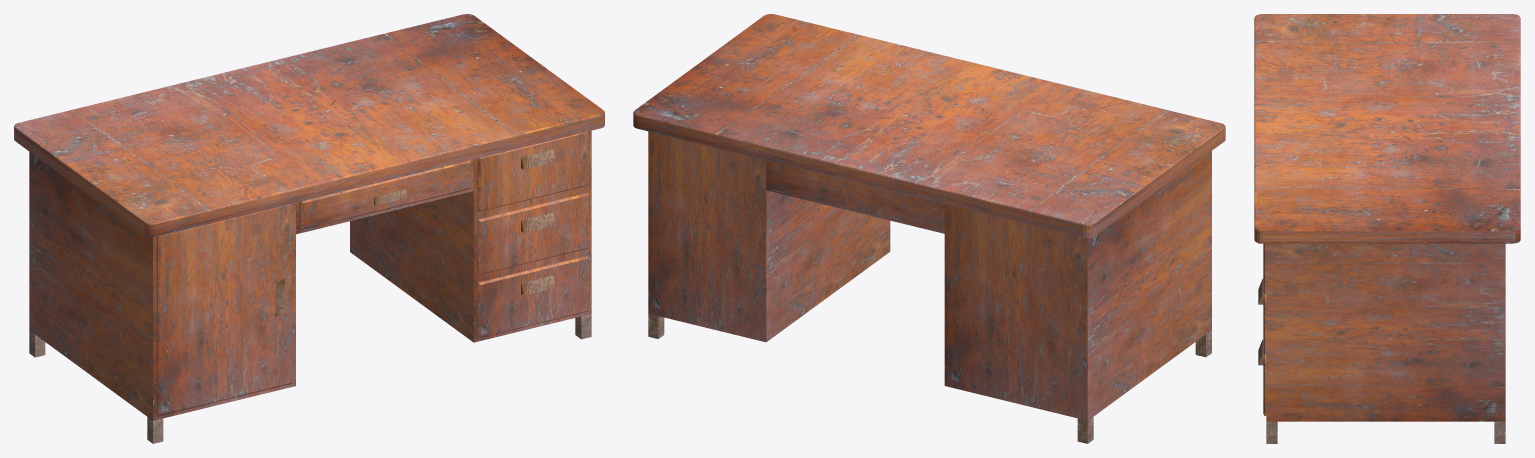
The model's file is Desk.FBX.
3 renders of one model, left to right at view 1: azimuth 30°, elevation 25°; view 2: azimuth 150°, elevation 25°; view 3: azimuth 270°, elevation 25°, orthographic. The views are drawn at different scales.
Parts seen in each view (by area): view 1: Object001, Object002, Object006, Object004; view 2: Object001, Object002, Object006, Object004; view 3: Object001, Object006, Object010, Object011.
Part boxes in pixels (box(x1,y1,x2,y2)): Object001: box(14, 14, 604, 237); Object002: box(29, 152, 295, 420); Object006: box(350, 130, 591, 342); Object004: box(296, 159, 473, 234); Object001: box(633, 14, 1225, 237); Object002: box(944, 151, 1211, 420); Object006: box(648, 131, 890, 342); Object004: box(766, 160, 944, 233); Object001: box(1254, 14, 1520, 243); Object006: box(1263, 243, 1505, 421); Object010: box(1494, 421, 1505, 443); Object011: box(1266, 421, 1277, 443).
Size of the model in its own units: 643 by 302 by 334.
2 materials, 2 textured.
